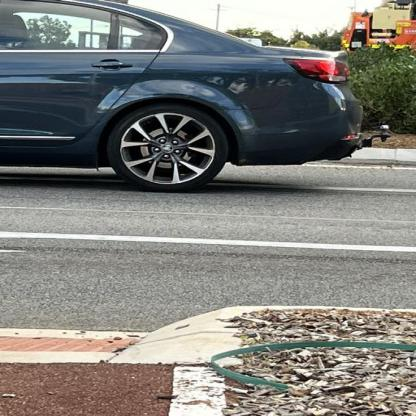Tire: (106, 102, 229, 192)
